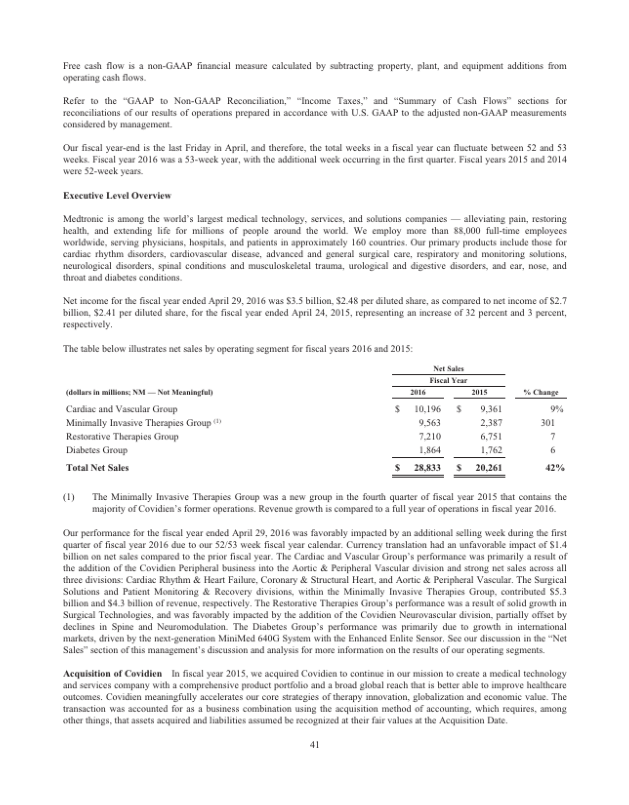table: (387, 359, 569, 482)
